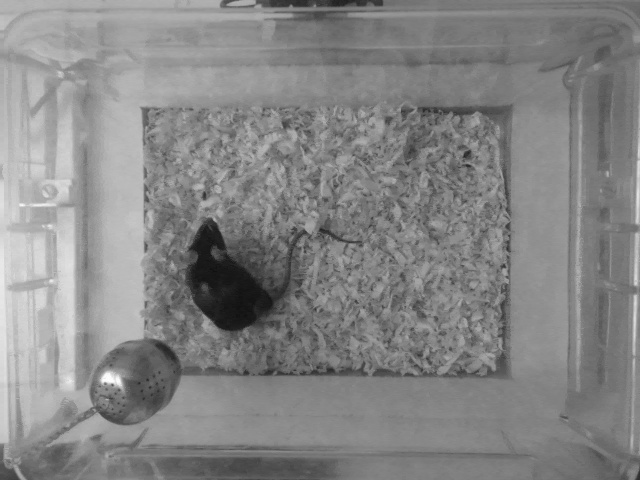mice: (186, 215, 364, 332)
